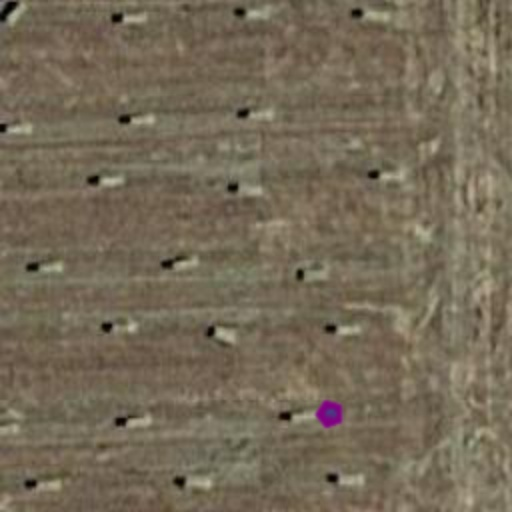pentagon: (310, 394, 350, 434)
